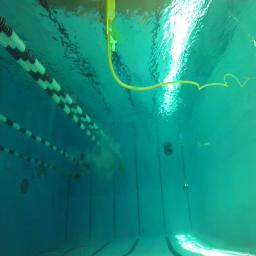Full: (164, 146, 172, 154)
front: (183, 182, 189, 188)
